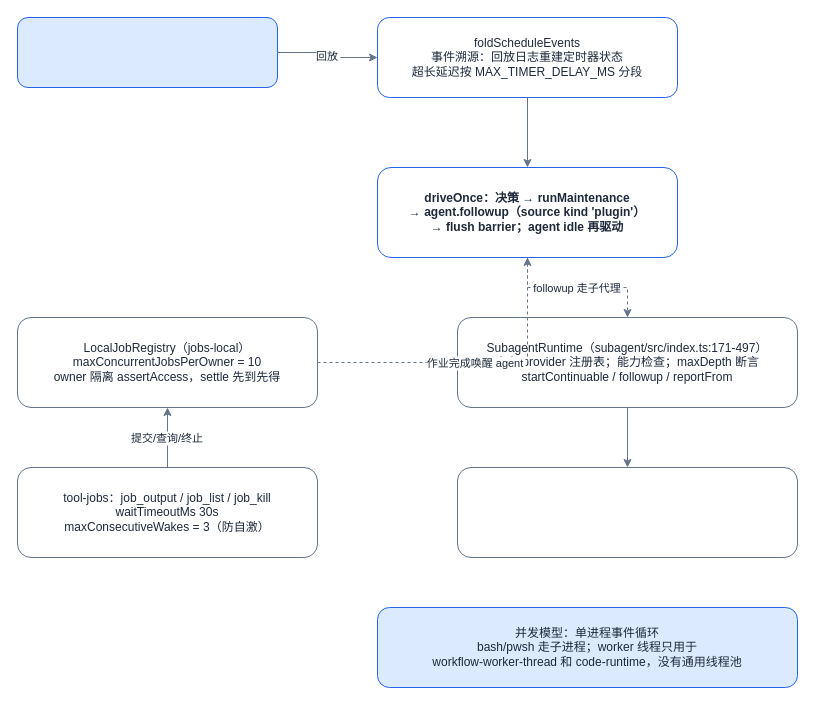
This 815x705 diagram has some shape labels left out. Each missing label, with the centre of its shape:
"会话事件日志 （timer 相关事件都在里面）" goes at (147,52).
"委托上下文（child-agent.ts:135-139） 权限范围在启动时固定；被拒操作不重试； 回复里说明受限状态" goes at (627,512).
